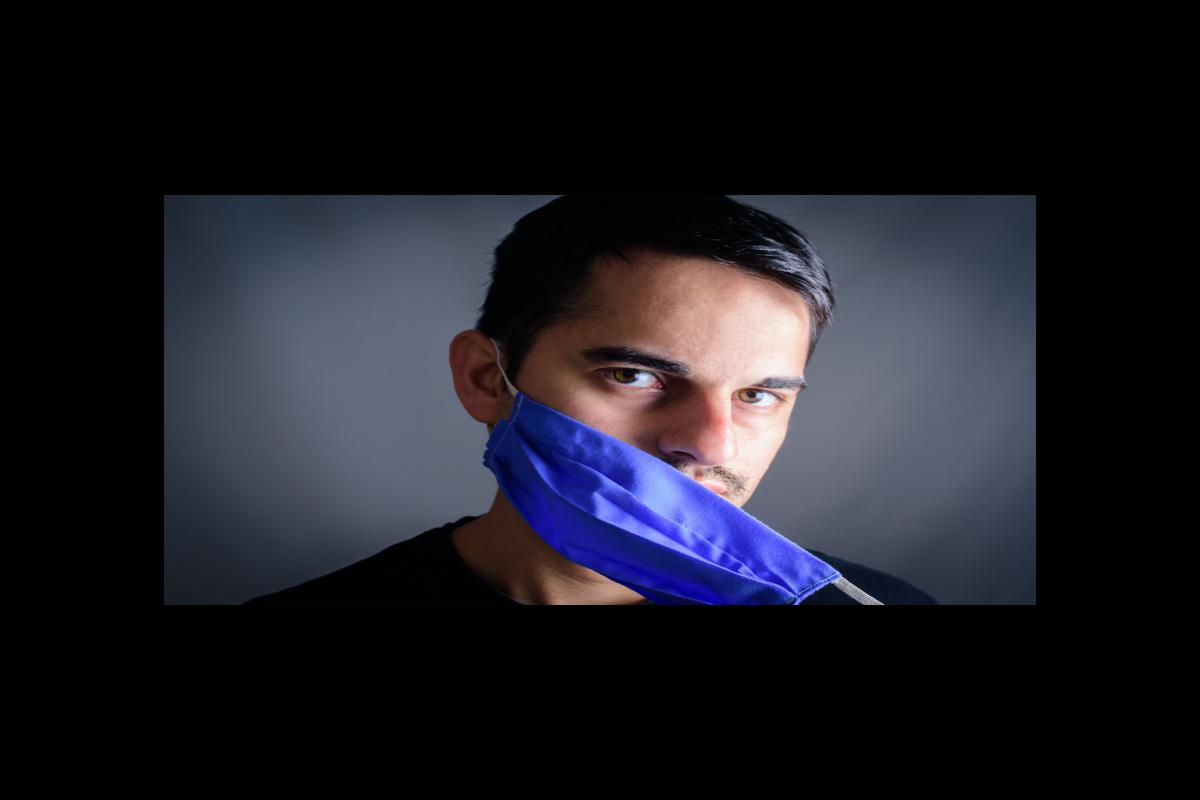mask_weared_incorrect: (498, 333, 818, 494)
